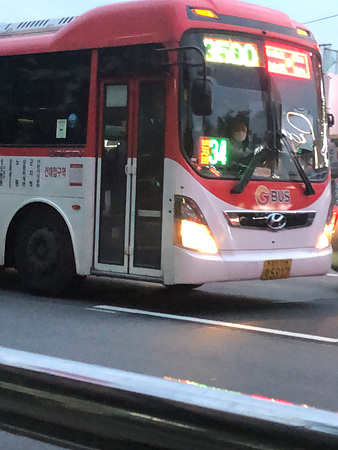entrance: (87, 55, 179, 276)
